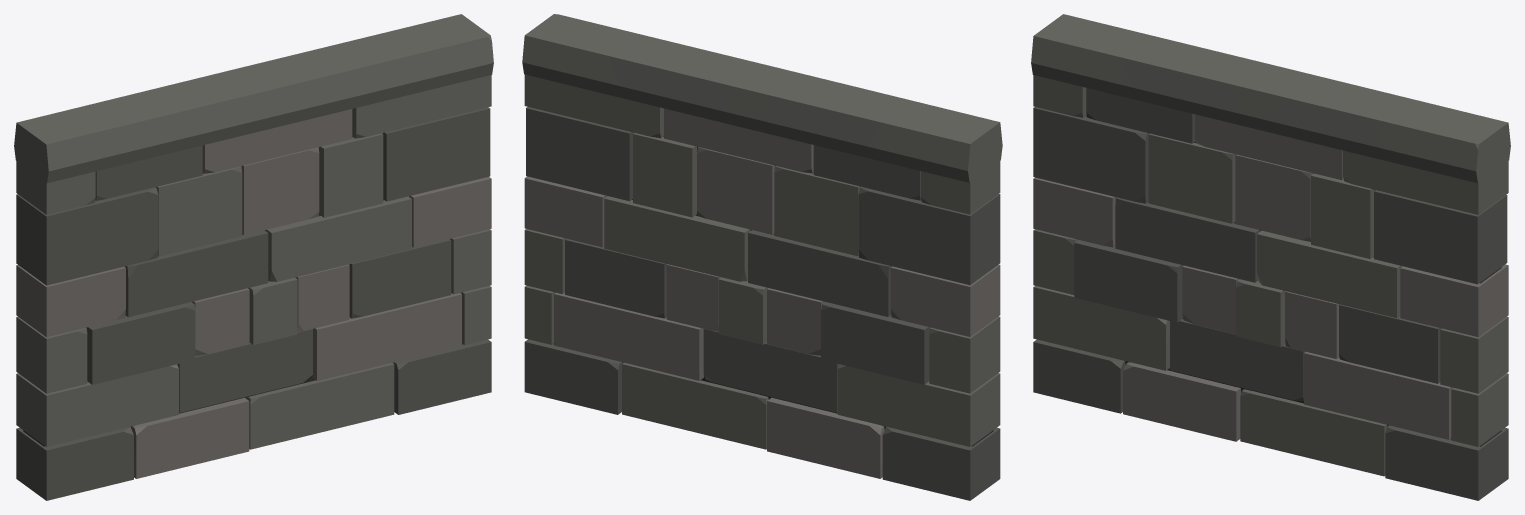
Rendered from Wall01.fbx.
3 views of the same model, side by side, from view 1: azimuth 30°, elevation 25°; view 2: azimuth 150°, elevation 25°; view 3: azimuth 330°, elevation 25° (orthographic).
Parts seen in each view (by area): view 1: Wall01; view 2: Wall01; view 3: Wall01.
Part boxes in pixels (x1,y1,x2,y2): Wall01: (14,14,493,500); Wall01: (522,14,1002,500); Wall01: (1031,14,1510,500).
Size of the model in its own units: 200 by 153 by 27.26.
